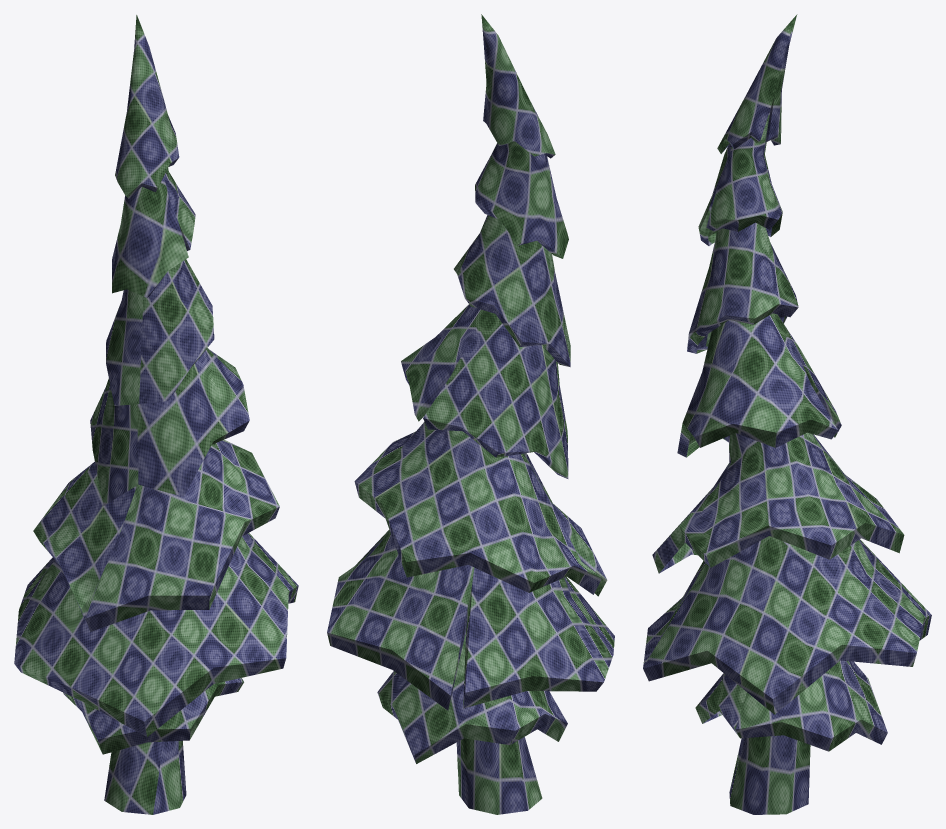
The model's file is SM_Tree_04.FBX.
3 views of the same model, side by side, from view 1: azimuth 30°, elevation 25°; view 2: azimuth 150°, elevation 25°; view 3: azimuth 270°, elevation 25° (orthographic). The views are drawn at different scales.
Parts seen in each view (by area): view 1: SM_Tree_04; view 2: SM_Tree_04; view 3: SM_Tree_04.
Boxes of the visible parts, x1,y1,x2,y2 form: SM_Tree_04: [14, 15, 298, 814]; SM_Tree_04: [327, 14, 614, 814]; SM_Tree_04: [643, 14, 931, 814].
Bounding box in the file's own units: 57.1 × 155 × 51.74.
Materials: 1 (1 with a texture image).
